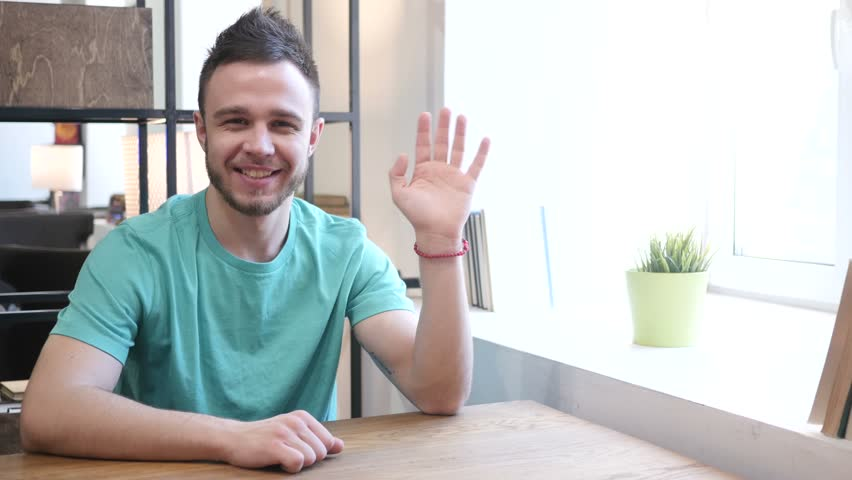open_hand: (368, 90, 504, 247)
